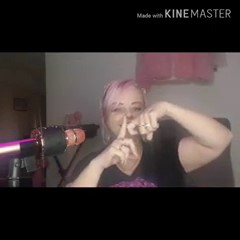K: (107, 103, 164, 168)
